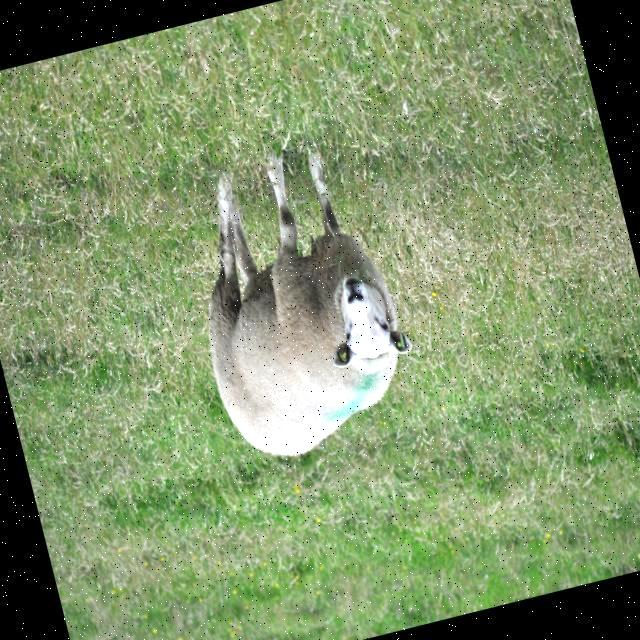sheep: (208, 154, 411, 456)
